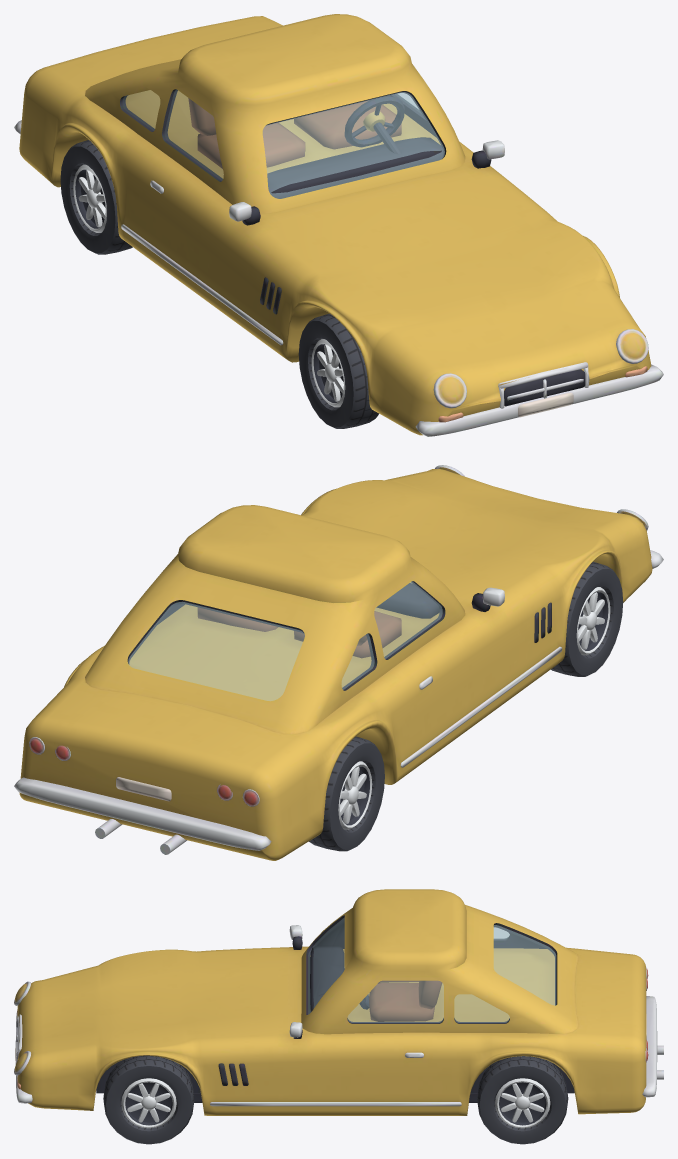
Rendered from 1960s-sports-car.glb.
3 views of the same model, one above another, from view 1: azimuth 30°, elevation 25°; view 2: azimuth 150°, elevation 25°; view 3: azimuth 270°, elevation 25° (orthographic). The views are drawn at different scales.
Parts seen in each view (by area): view 1: 1960s-sports-car_body, 1960s-sports-car_windows, 1960s-sports-car_wheel_fr, 1960s-sports-car_wheel_rr; view 2: 1960s-sports-car_body, 1960s-sports-car_windows, 1960s-sports-car_wheel_rr, 1960s-sports-car_wheel_fr; view 3: 1960s-sports-car_body, 1960s-sports-car_windows, 1960s-sports-car_wheel_fl, 1960s-sports-car_wheel_rl.
Part boxes in pixels (<box>): 1960s-sports-car_body: <box>14,14,663,436</box>; 1960s-sports-car_windows: <box>123,89,444,198</box>; 1960s-sports-car_wheel_fr: <box>298,313,378,428</box>; 1960s-sports-car_wheel_rr: <box>60,140,132,254</box>; 1960s-sports-car_body: <box>14,465,663,860</box>; 1960s-sports-car_windows: <box>128,581,442,700</box>; 1960s-sports-car_wheel_rr: <box>309,736,384,851</box>; 1960s-sports-car_wheel_fr: <box>551,562,623,676</box>; 1960s-sports-car_body: <box>14,889,663,1115</box>; 1960s-sports-car_windows: <box>308,918,555,1022</box>; 1960s-sports-car_wheel_fl: <box>103,1055,194,1144</box>; 1960s-sports-car_wheel_rl: <box>477,1056,568,1144</box>.
Size of the model in its own units: 1.73 by 1.3 by 4.42.
Materials: 18 (5 with a texture image).
